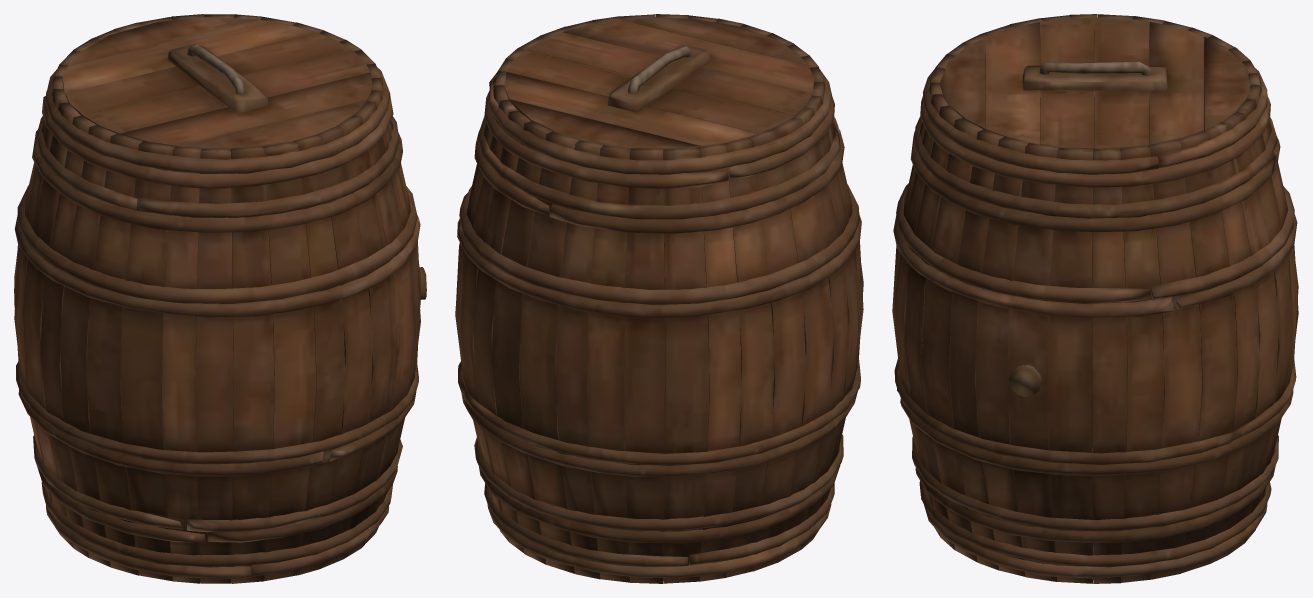
File: barrel.glb
3 renders of one model, left to right at view 1: azimuth 30°, elevation 25°; view 2: azimuth 150°, elevation 25°; view 3: azimuth 270°, elevation 25°, orthographic.
Visible parts, largest first — view 1: wooden_barrels_01_barrel01; view 2: wooden_barrels_01_barrel01; view 3: wooden_barrels_01_barrel01.
Part boxes in pixels (box(x1,y1,x2,y2)): wooden_barrels_01_barrel01: box(14, 14, 426, 583); wooden_barrels_01_barrel01: box(455, 14, 863, 583); wooden_barrels_01_barrel01: box(892, 14, 1298, 583).
Bounding box in the file's own units: 0.7434 × 0.9164 × 0.7434.
Materials: 1 (1 with a texture image).
